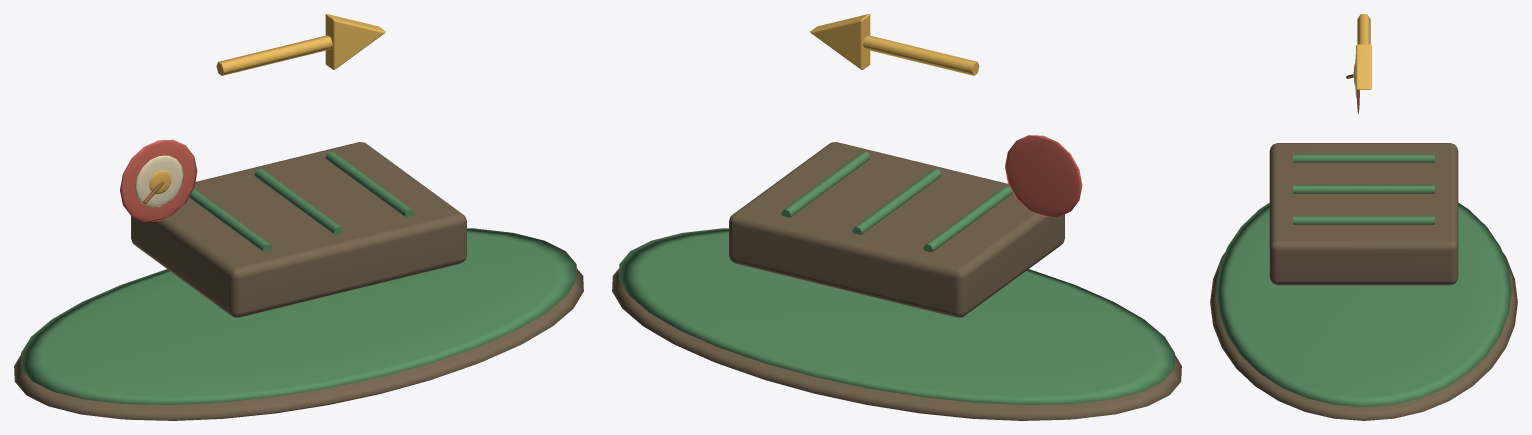
File: complete-second-field-source.glb
3 renders of one model, left to right at view 1: azimuth 30°, elevation 25°; view 2: azimuth 150°, elevation 25°; view 3: azimuth 270°, elevation 25°, orthographic. The views are drawn at different scales.
Visible parts, largest first — view 1: complete-second-field-source_surface_01, complete-second-field-source_surface_00, complete-second-field-source_surface_02, complete-second-field-source_surface_03, complete-second-field-source_surface_04; view 2: complete-second-field-source_surface_01, complete-second-field-source_surface_00, complete-second-field-source_surface_03, complete-second-field-source_surface_02; view 3: complete-second-field-source_surface_01, complete-second-field-source_surface_00, complete-second-field-source_surface_02.
Part boxes in pixels (left/top/right/bottom): complete-second-field-source_surface_01: left=21, top=151, right=576, bottom=404; complete-second-field-source_surface_00: left=14, top=142, right=583, bottom=420; complete-second-field-source_surface_02: left=149, top=14, right=385, bottom=194; complete-second-field-source_surface_03: left=120, top=139, right=197, bottom=221; complete-second-field-source_surface_04: left=135, top=155, right=183, bottom=207; complete-second-field-source_surface_01: left=619, top=151, right=1174, bottom=404; complete-second-field-source_surface_00: left=612, top=142, right=1181, bottom=420; complete-second-field-source_surface_03: left=1005, top=135, right=1082, bottom=217; complete-second-field-source_surface_02: left=810, top=14, right=979, bottom=75; complete-second-field-source_surface_01: left=1216, top=154, right=1511, bottom=407; complete-second-field-source_surface_00: left=1210, top=143, right=1517, bottom=420; complete-second-field-source_surface_02: left=1353, top=14, right=1371, bottom=89.
Size of the model in its own units: 4.56 by 2.56 by 2.5.
